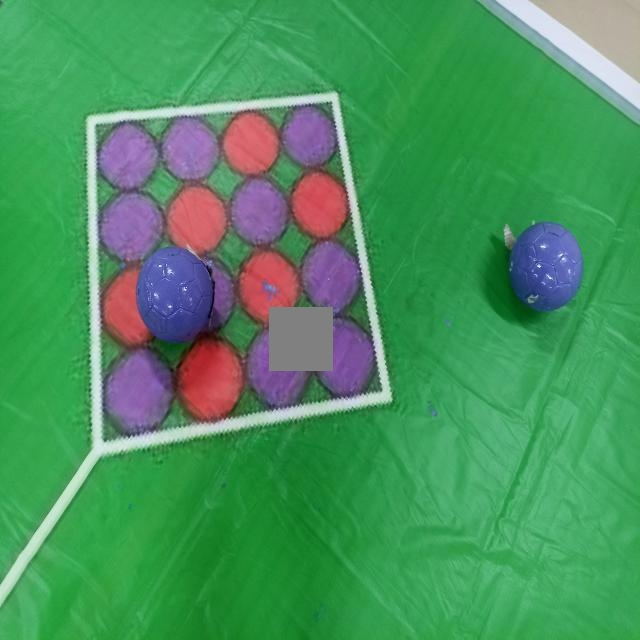purple_ball: (138, 246, 212, 346), (509, 224, 583, 308)
